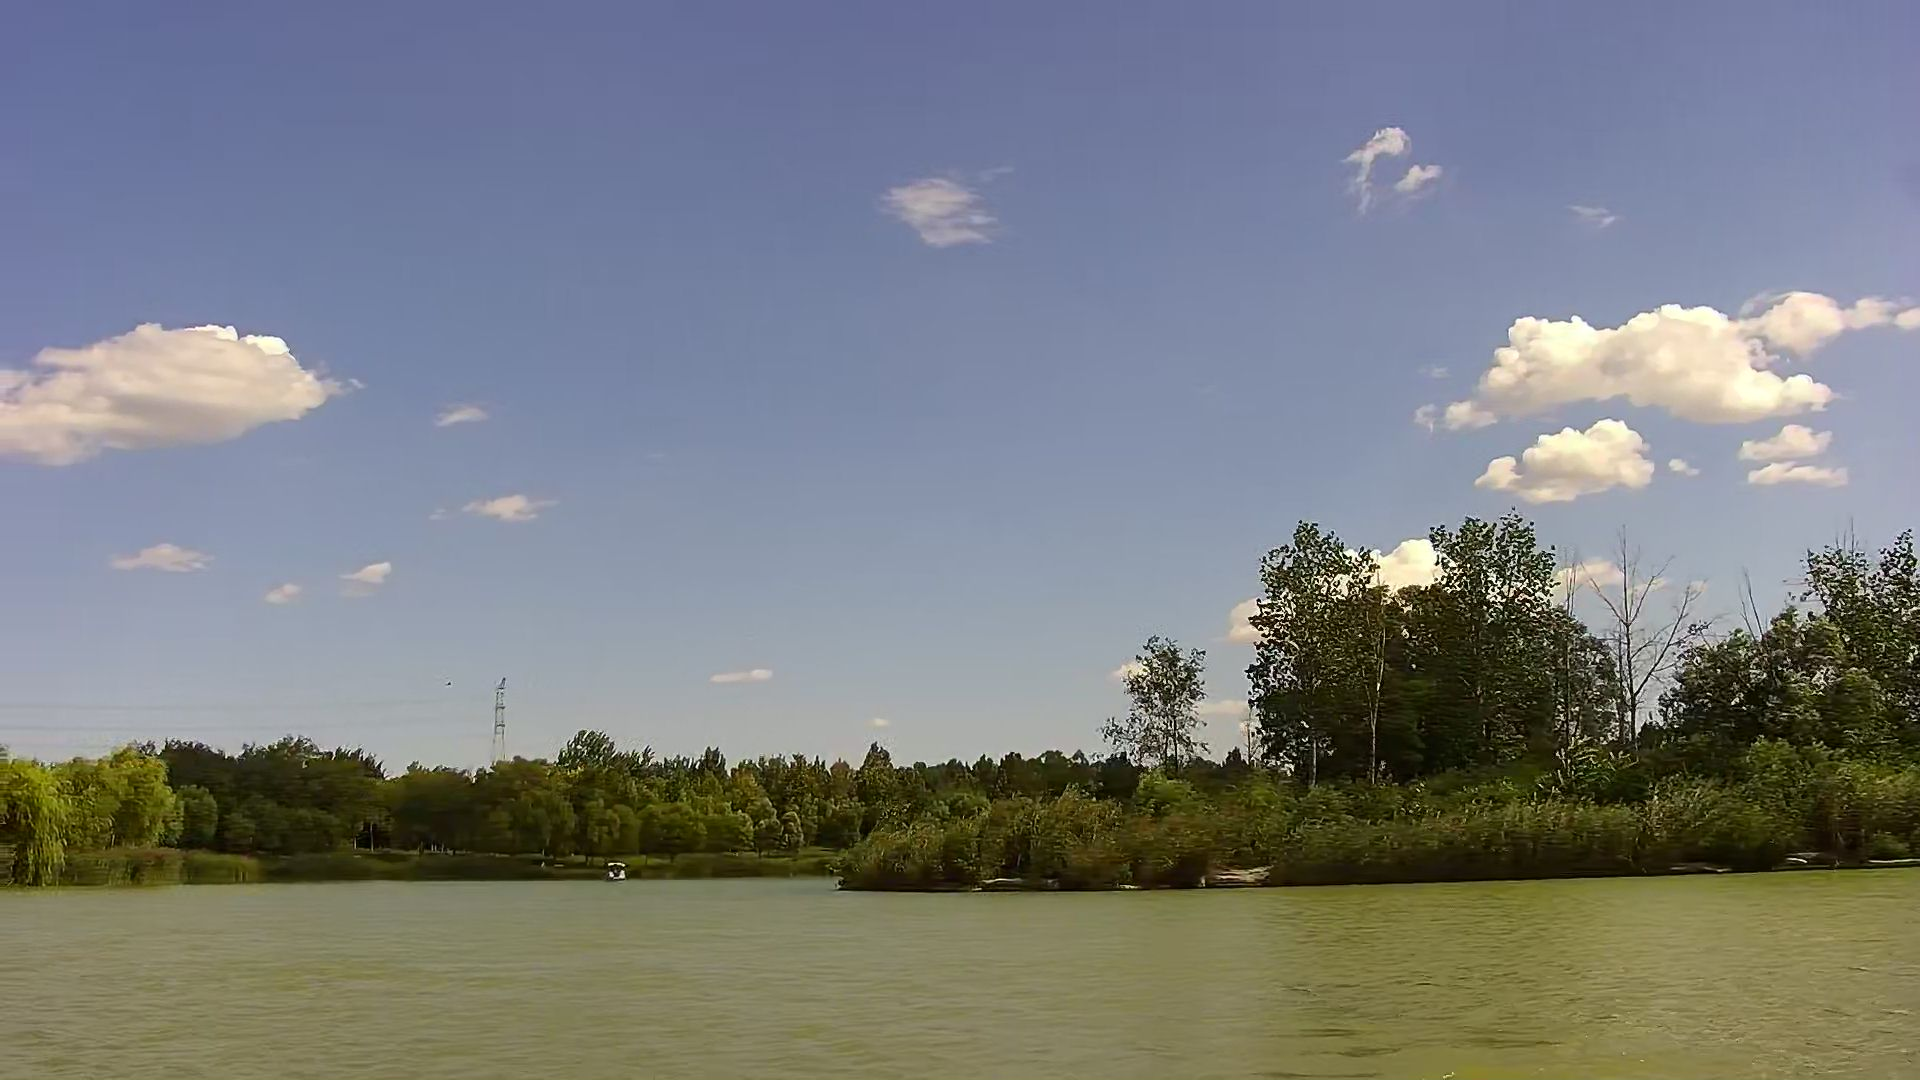boat: (601, 856, 624, 876)
rock: (980, 869, 1023, 895), (1201, 866, 1279, 880), (1675, 860, 1729, 876), (1869, 858, 1920, 874), (1784, 847, 1813, 869), (1112, 876, 1139, 889)
